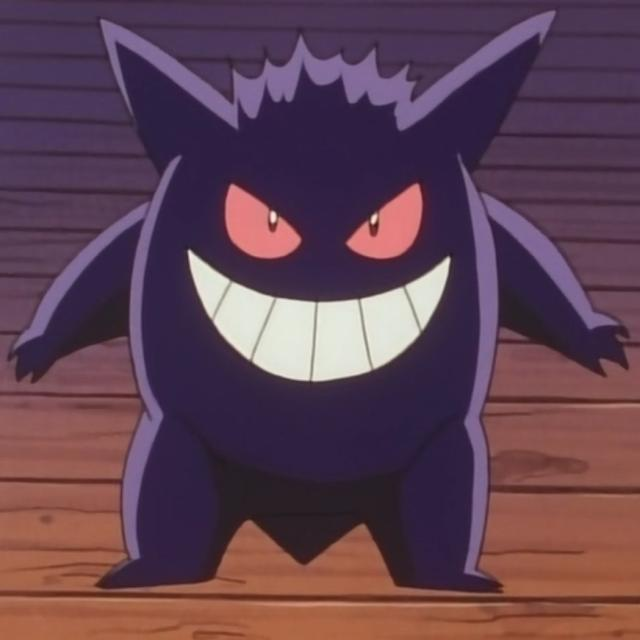Gengar: (87, 12, 560, 586)
